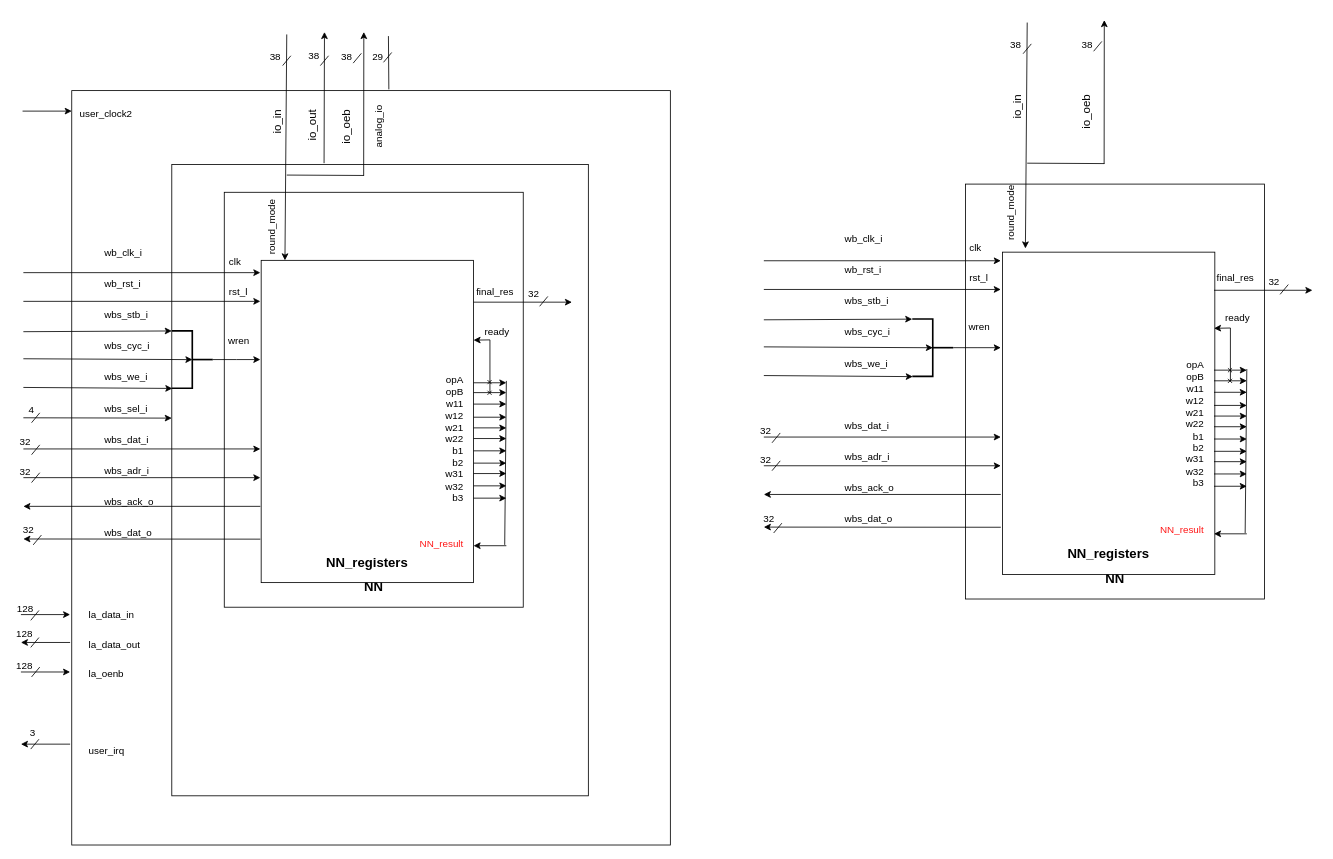
This 1333x859 diagram has some shape labels left out. The box of each missing label's shape, as (x1, y1, x2, y2) in pixels:
user_proj_example: (171, 164, 588, 796)
user_project_wrapper: (71, 90, 670, 845)
